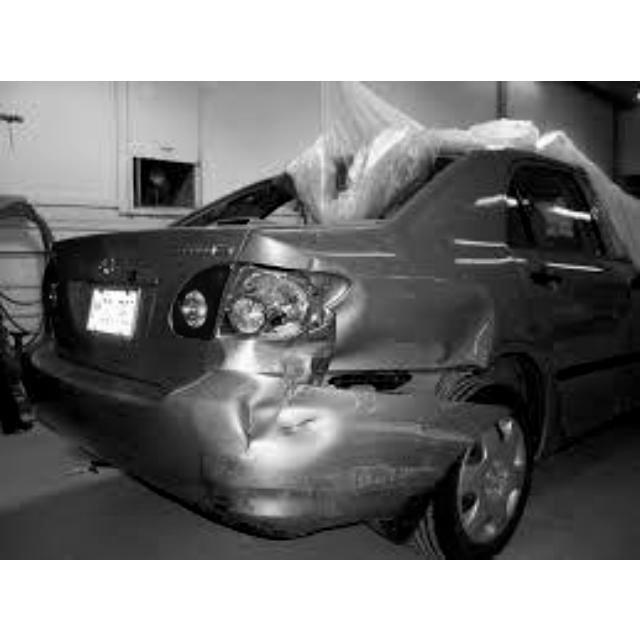Rear-windscreen-Damage: (202, 160, 442, 230)
Taillight-Damage: (220, 242, 341, 335)
quaterpanel-dent: (371, 238, 534, 364)
rear-bumper-dent: (134, 369, 413, 519)
